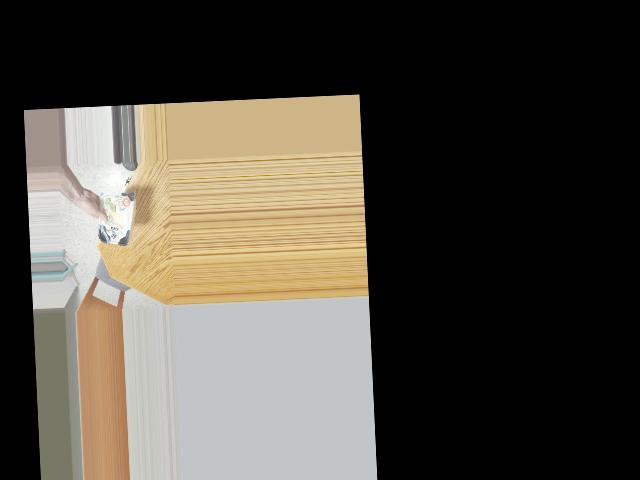cheese: (89, 198, 135, 243)
